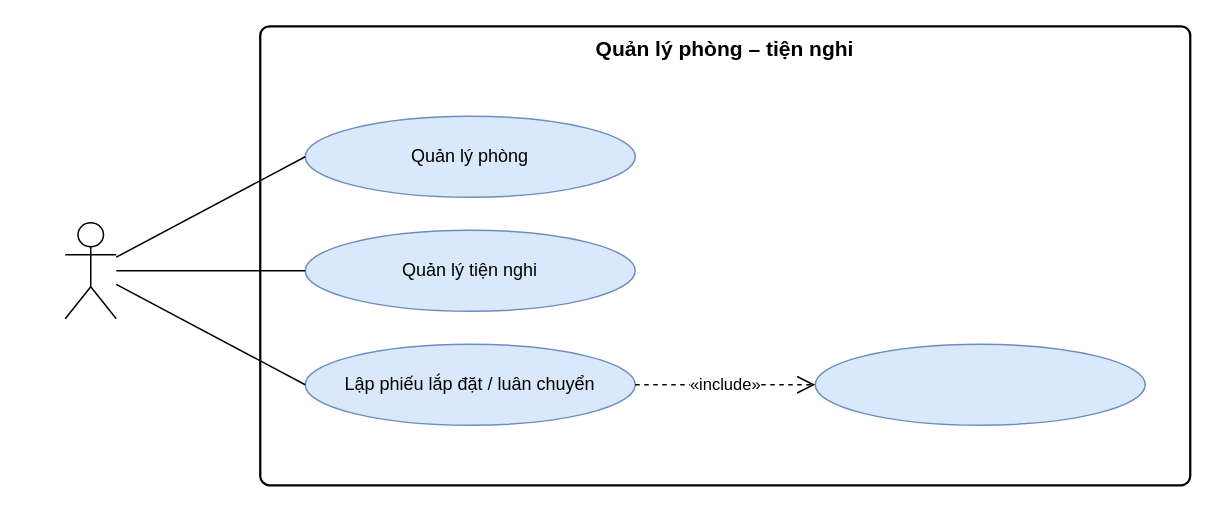
This 1218x513 diagram has some shape labels left out. The centre of each missing label's shape, as x and y in pixels:
"Kiểm tra thiết bị trong ngày" goes at [979,384].
"Phục vụ phòng" goes at [90,270].
